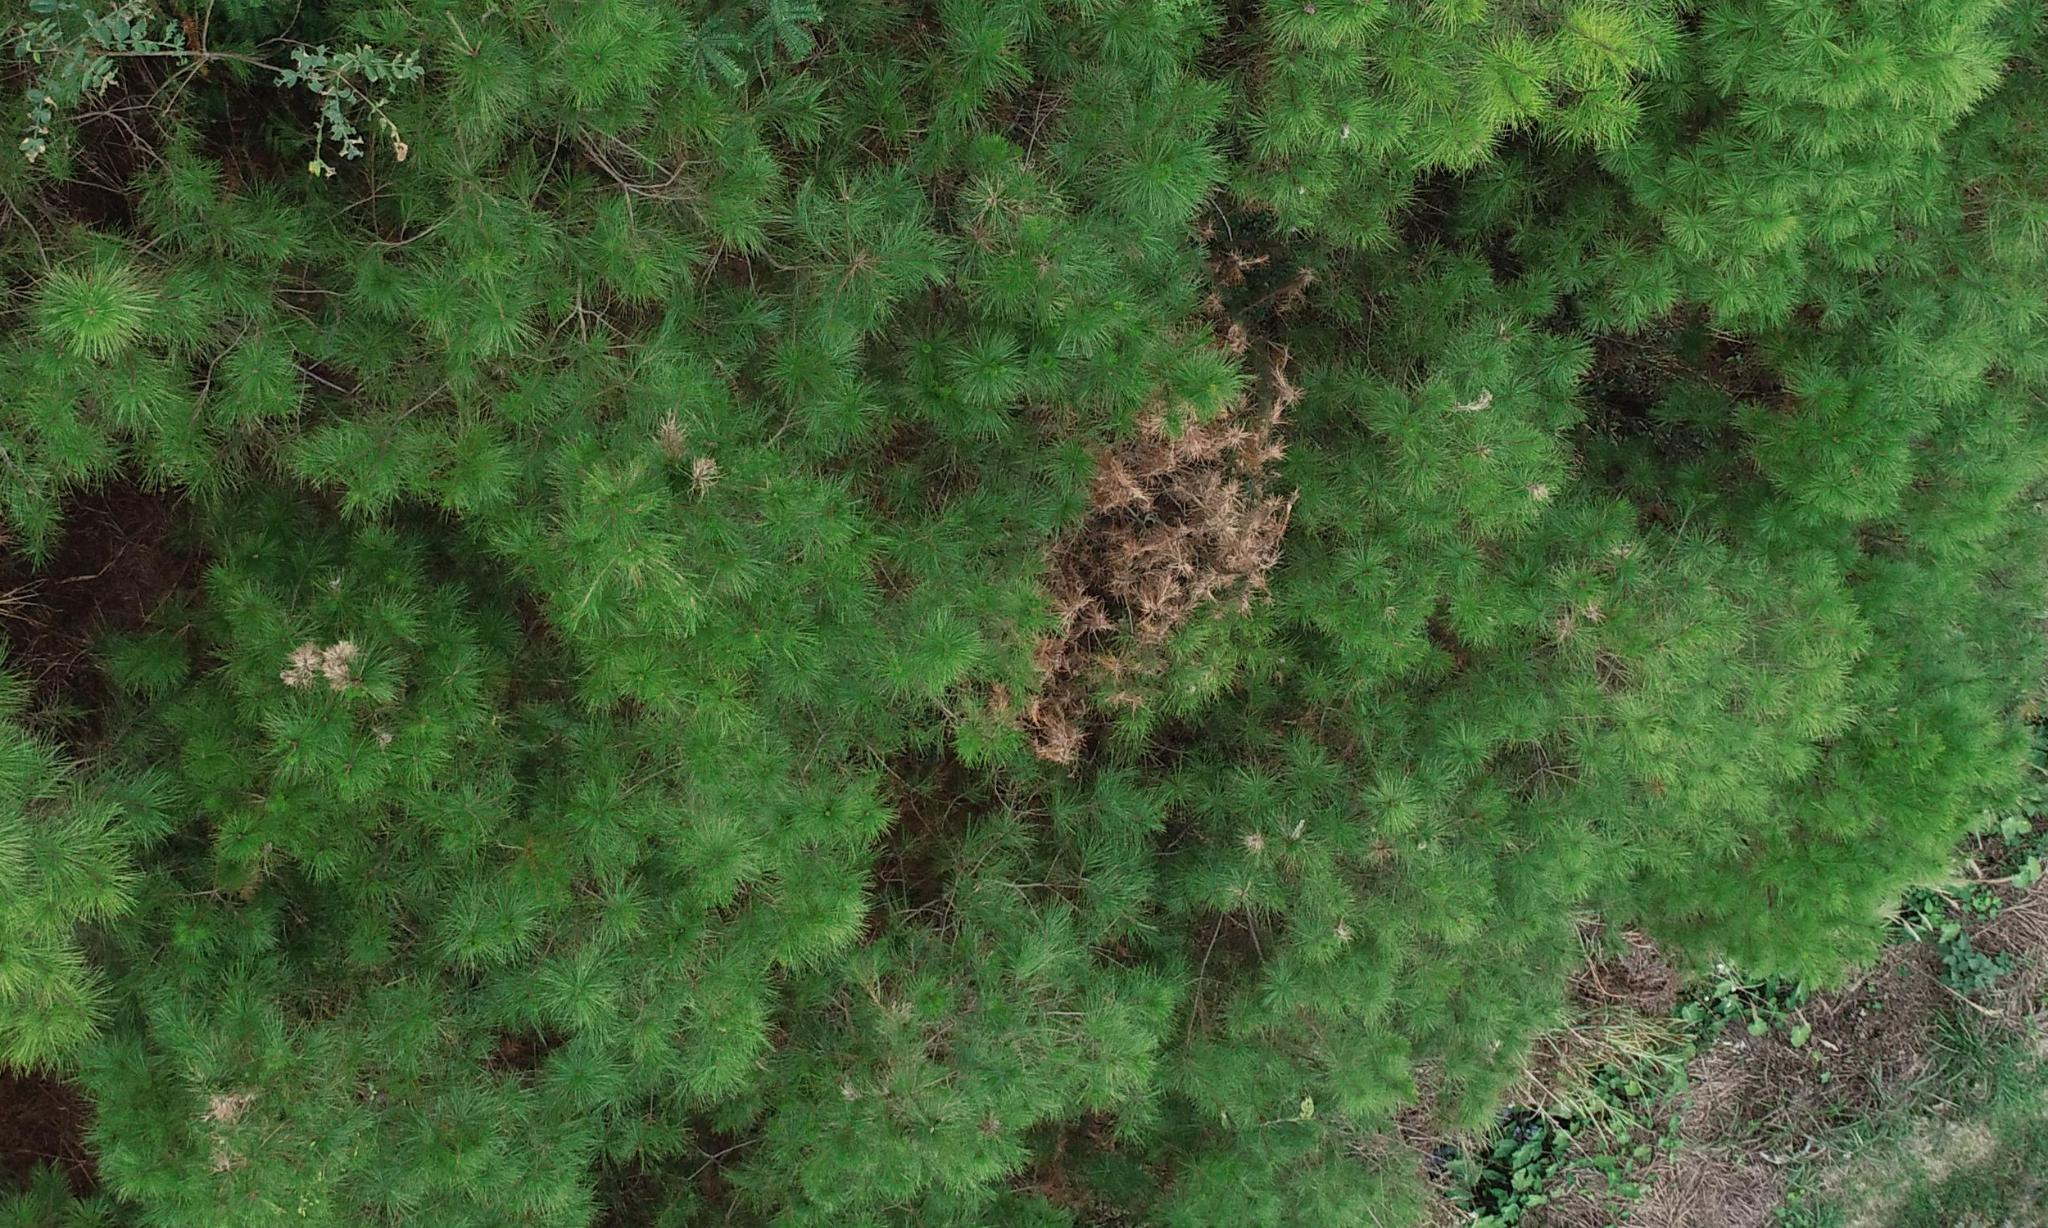heavy: (978, 379, 1275, 716)
